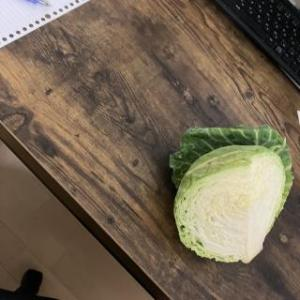cabbage: (168, 123, 296, 264)
